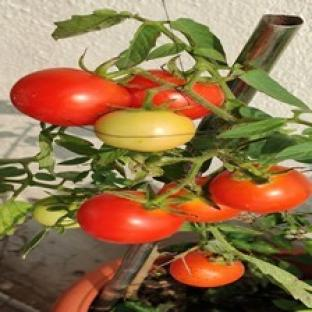Tomato: (10, 69, 130, 126), (77, 191, 183, 243), (209, 166, 310, 213), (94, 111, 196, 151), (150, 70, 210, 119), (169, 251, 245, 286), (173, 198, 240, 222), (33, 197, 79, 228)
